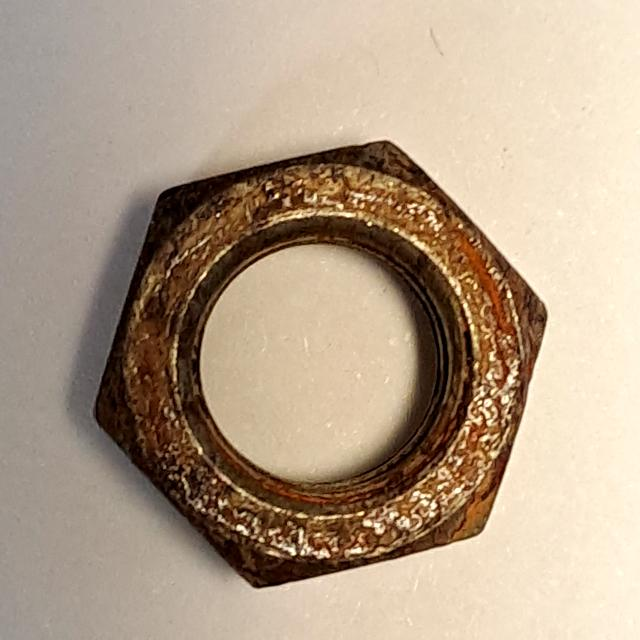Rust: (77, 115, 560, 601)
